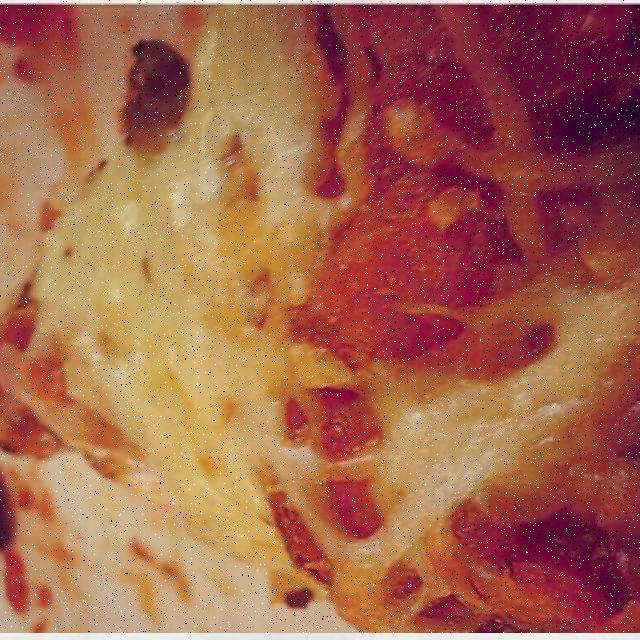Pizza: (0, 0, 640, 633)
